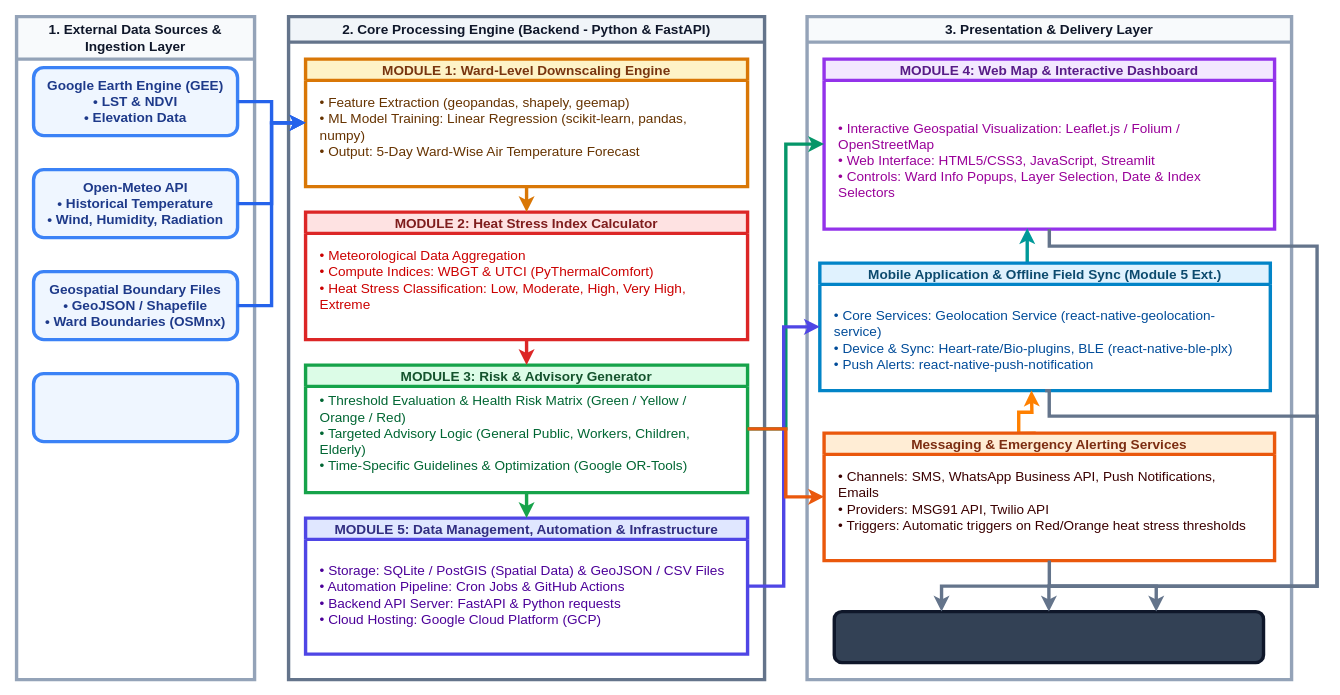
The diagram is 1340 pixels wide and 695 high, and some of its shapes have lost their labels. Here are the shapes that lost their labels. From the top down, the centre of each, then its label:
At (135,407): "Data Collection • Google Forms & Sheets • gspread Integration".
At (1048,636): "End-User Stakeholders (Citizens, Field Workers, Municipal Authorities)".
